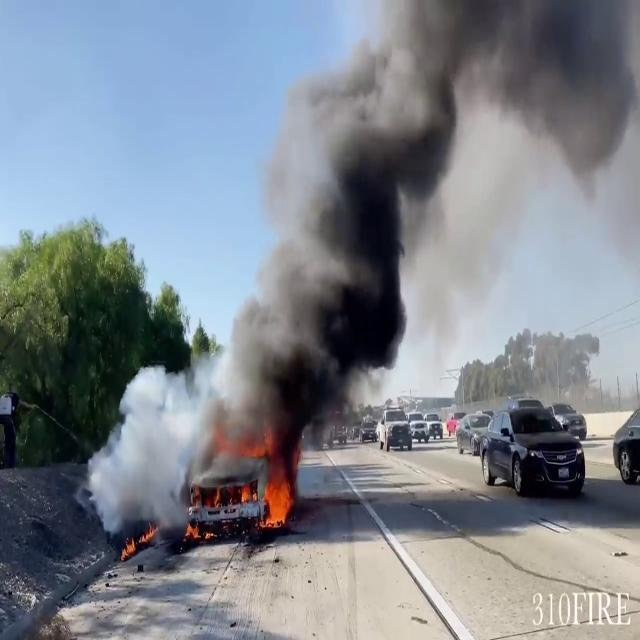Fire: (257, 462, 297, 532)
Smoke: (213, 0, 460, 436), (325, 0, 640, 213), (86, 348, 228, 548)
